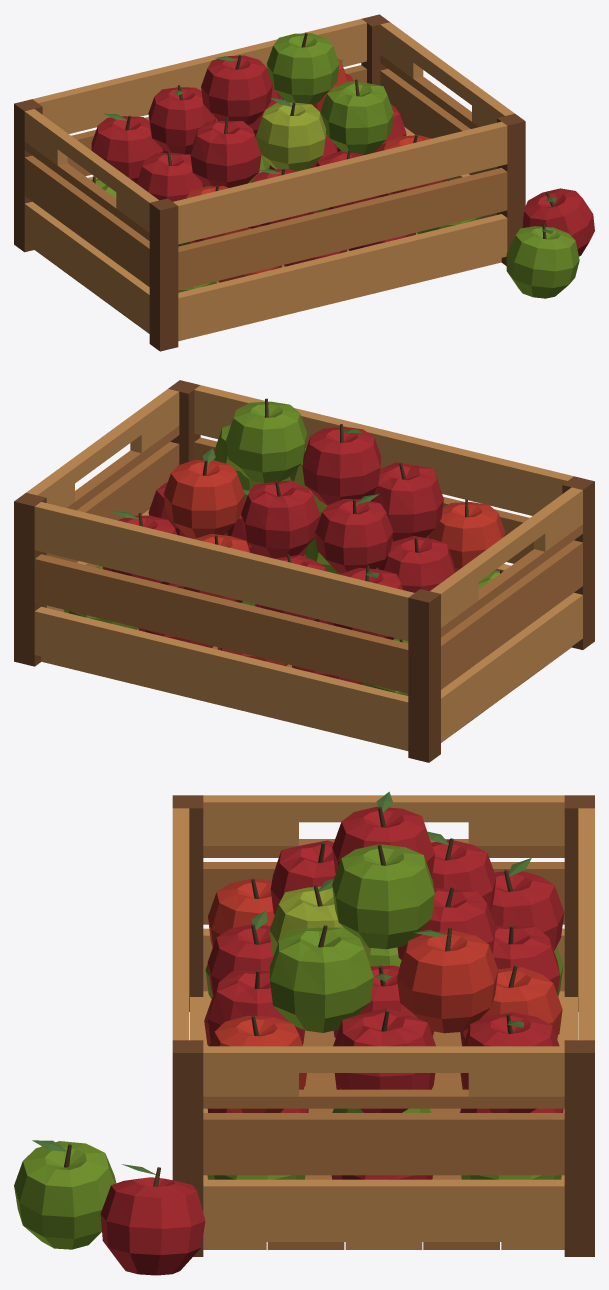
File: buah.glb
3 views of the same model, one above another, from view 1: azimuth 30°, elevation 25°; view 2: azimuth 150°, elevation 25°; view 3: azimuth 270°, elevation 25° (orthographic). The views are drawn at different scales.
Visible parts, largest first — view 1: applecrate.front.slat3, applecrate.front.slat2, applecrate.front.slat1, applecrate.back.slat3, applecrate.left.slat2, applecrate.left.slat1, applecrate.posts.post3, applecrate.apples.apple33, applecrate.loose_green, applecrate.apples.apple35, applecrate.apples.apple31, applecrate.apples.apple32 (+23 smaller); view 2: applecrate.back.slat3, applecrate.back.slat1, applecrate.back.slat2, applecrate.front.slat3, applecrate.left.slat1, applecrate.left.slat2, applecrate.posts.post1, applecrate.apples.apple35, applecrate.apples.apple30, applecrate.apples.apple34, applecrate.apples.apple29, applecrate.apples.apple28 (+24 smaller); view 3: applecrate.right.slat2, applecrate.right.slat1, applecrate.right.handle_top, applecrate.left.handle_top, applecrate.apples.apple33, applecrate.apples.apple35, applecrate.loose_red, applecrate.loose_green, applecrate.apples.apple30, applecrate.posts.post2, applecrate.right.handle_bottom, applecrate.apples.apple23 (+32 smaller).
Part boxes in pixels (x1,y1,x2,y2): applecrate.front.slat3: [173, 121, 507, 244]; applecrate.front.slat2: [178, 168, 507, 290]; applecrate.front.slat1: [178, 214, 507, 336]; applecrate.back.slat3: [32, 19, 366, 133]; applecrate.left.slat2: [24, 155, 149, 286]; applecrate.left.slat1: [24, 201, 149, 333]; applecrate.posts.post3: [149, 198, 178, 351]; applecrate.apples.apple33: [320, 81, 393, 154]; applecrate.loose_green: [506, 226, 579, 298]; applecrate.apples.apple35: [266, 33, 339, 104]; applecrate.apples.apple31: [190, 121, 261, 187]; applecrate.apples.apple32: [256, 102, 326, 171]; applecrate.back.slat3: [34, 502, 414, 640]; applecrate.back.slat1: [34, 606, 408, 745]; applecrate.back.slat2: [34, 554, 408, 693]; applecrate.front.slat3: [194, 385, 573, 515]; applecrate.left.slat1: [441, 593, 582, 741]; applecrate.left.slat2: [441, 540, 582, 689]; applecrate.posts.post1: [408, 589, 440, 762]; applecrate.apples.apple35: [226, 401, 307, 483]; applecrate.apples.apple30: [163, 460, 244, 538]; applecrate.apples.apple34: [302, 426, 381, 505]; applecrate.apples.apple29: [241, 480, 320, 558]; applecrate.apples.apple28: [315, 499, 393, 573]; applecrate.right.slat2: [203, 1113, 564, 1175]; applecrate.right.slat1: [203, 1179, 564, 1241]; applecrate.right.handle_top: [203, 1046, 564, 1072]; applecrate.left.handle_top: [203, 795, 564, 822]; applecrate.apples.apple33: [269, 927, 373, 1032]; applecrate.apples.apple35: [332, 844, 434, 949]; applecrate.loose_red: [100, 1177, 205, 1275]; applecrate.loose_green: [14, 1141, 116, 1249]; applecrate.apples.apple30: [397, 930, 498, 1033]; applecrate.posts.post2: [564, 1040, 594, 1256]; applecrate.right.handle_bottom: [203, 1089, 564, 1108]; applecrate.apples.apple23: [333, 1008, 435, 1112].
Size of the model in its own units: 0.6011 by 0.2895 by 0.4954.
